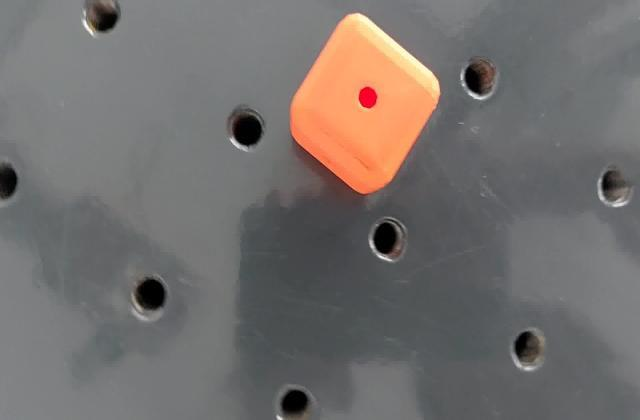cube: (285, 11, 445, 200)
